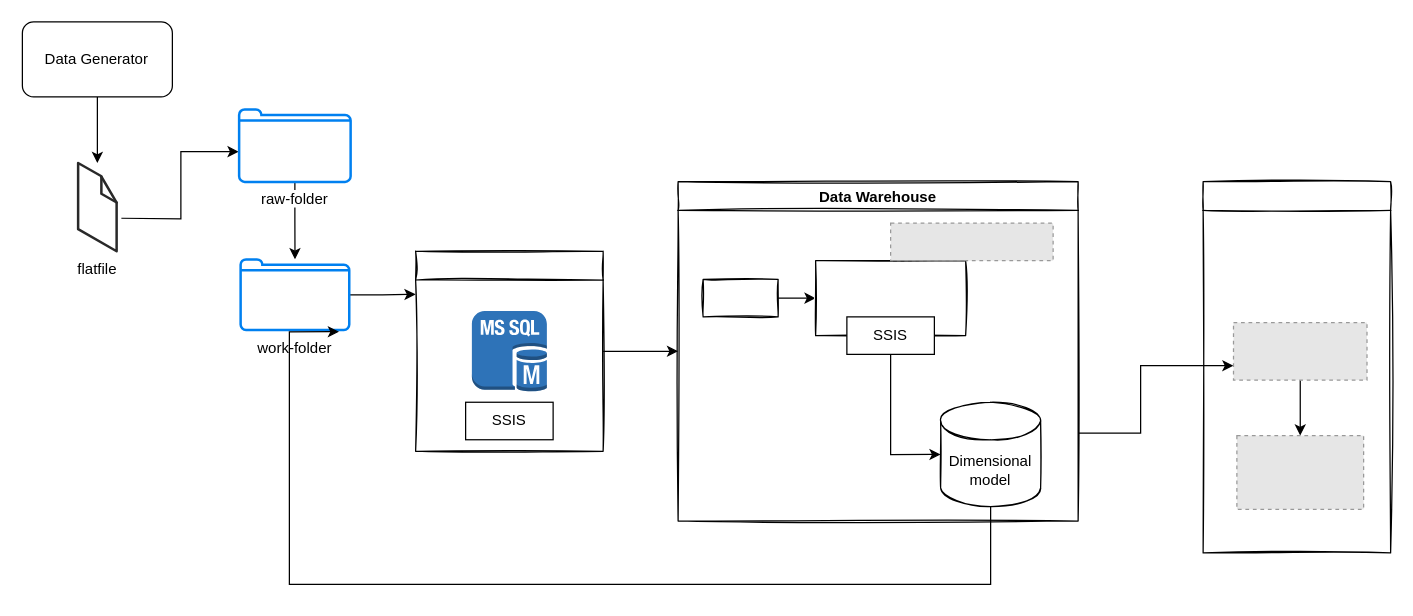
The diagram is 1413 pixels wide and 616 high, and some of its shapes have lost their labels. Grey dashed boxes stand in for pictures. The shapes that lost their labels are listed below. From the top down, each one's box as (x1, y1, x2, y2) in pixels, then its label:
(702, 278, 778, 317): Stage
(814, 259, 966, 336): ETL
(414, 250, 603, 451): Staging
(1202, 180, 1391, 553): BI
